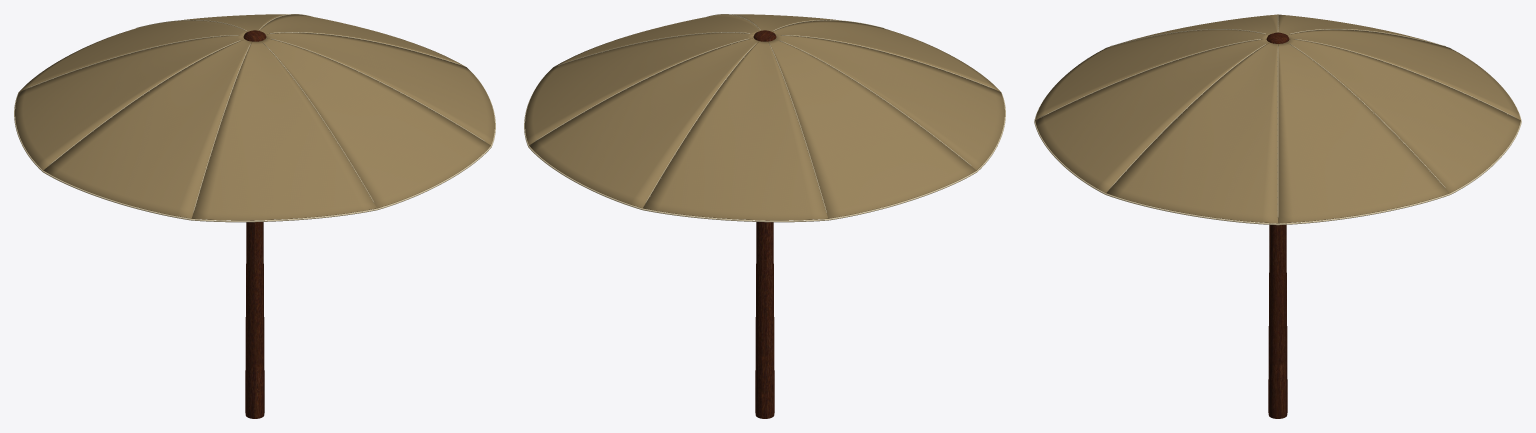
Rendered from umbrella-v1.glb.
3 views of the same model, side by side, from view 1: azimuth 30°, elevation 25°; view 2: azimuth 150°, elevation 25°; view 3: azimuth 270°, elevation 25° (orthographic).
Parts seen in each view (by area): view 1: DJC_Umbrella_01_Sand_canvas, DJC_Umbrella_03_Un-tinted_oiled_timber, DJC_Umbrella_02_Folded_canvas_binding_and_lock_stitches; view 2: DJC_Umbrella_01_Sand_canvas, DJC_Umbrella_03_Un-tinted_oiled_timber, DJC_Umbrella_02_Folded_canvas_binding_and_lock_stitches; view 3: DJC_Umbrella_01_Sand_canvas, DJC_Umbrella_03_Un-tinted_oiled_timber, DJC_Umbrella_02_Folded_canvas_binding_and_lock_stitches.
Boxes of the visible parts, left/top/right/bottom form: DJC_Umbrella_01_Sand_canvas: left=15, top=14, right=494, bottom=220; DJC_Umbrella_03_Un-tinted_oiled_timber: left=243, top=30, right=266, bottom=418; DJC_Umbrella_02_Folded_canvas_binding_and_lock_stitches: left=14, top=14, right=495, bottom=222; DJC_Umbrella_01_Sand_canvas: left=525, top=14, right=1004, bottom=220; DJC_Umbrella_03_Un-tinted_oiled_timber: left=753, top=30, right=776, bottom=418; DJC_Umbrella_02_Folded_canvas_binding_and_lock_stitches: left=524, top=14, right=1005, bottom=222; DJC_Umbrella_01_Sand_canvas: left=1035, top=14, right=1520, bottom=223; DJC_Umbrella_03_Un-tinted_oiled_timber: left=1266, top=32, right=1289, bottom=418; DJC_Umbrella_02_Folded_canvas_binding_and_lock_stitches: left=1034, top=14, right=1521, bottom=225.
Bounding box in the file's own units: 3.29 × 2.83 × 3.29.
4 materials, 2 textured.
